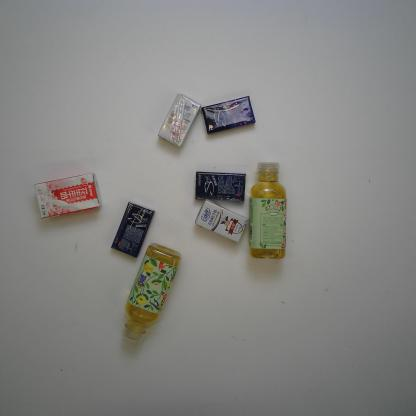Drink: (119, 242, 183, 344), (243, 159, 290, 262)
Gum: (110, 200, 155, 260), (200, 93, 257, 136), (192, 168, 249, 204)
Milk: (32, 170, 99, 225), (190, 196, 249, 245), (156, 92, 204, 150)
